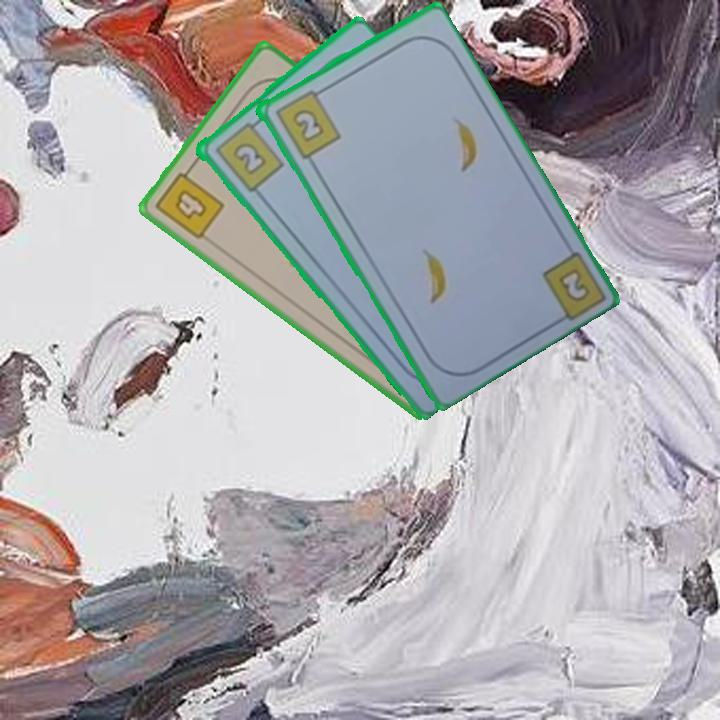2b: (210, 115, 286, 195), (271, 84, 343, 162), (557, 268, 590, 302)
4b: (151, 161, 227, 243)
